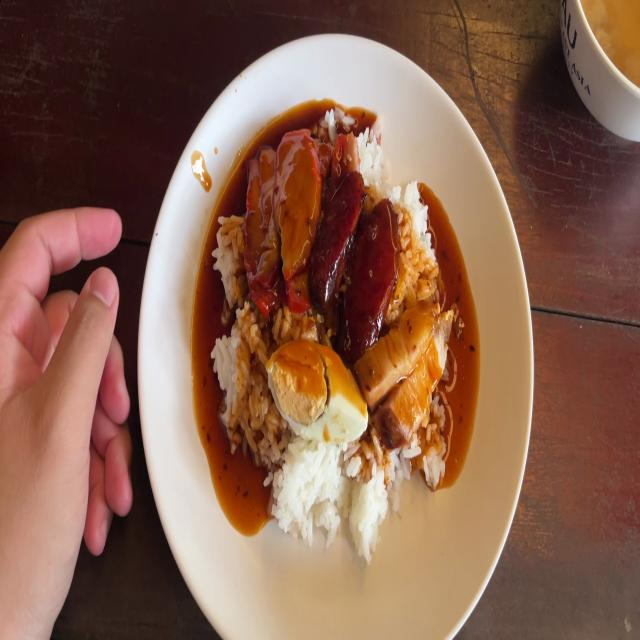01boiled_egg: (270, 339, 366, 443)
01chainese_sausage: (316, 176, 393, 352), (345, 200, 397, 349), (313, 169, 364, 307)
01crispy_pork: (364, 304, 450, 444), (359, 304, 441, 394), (392, 311, 452, 434)
01red_pork: (245, 138, 313, 298), (245, 144, 274, 298), (280, 134, 313, 267), (334, 129, 361, 173)
01red_pork_and_crispy_pork: (217, 110, 455, 550)
01rice: (259, 442, 397, 546), (214, 307, 264, 461), (395, 182, 437, 316), (217, 216, 242, 302)
